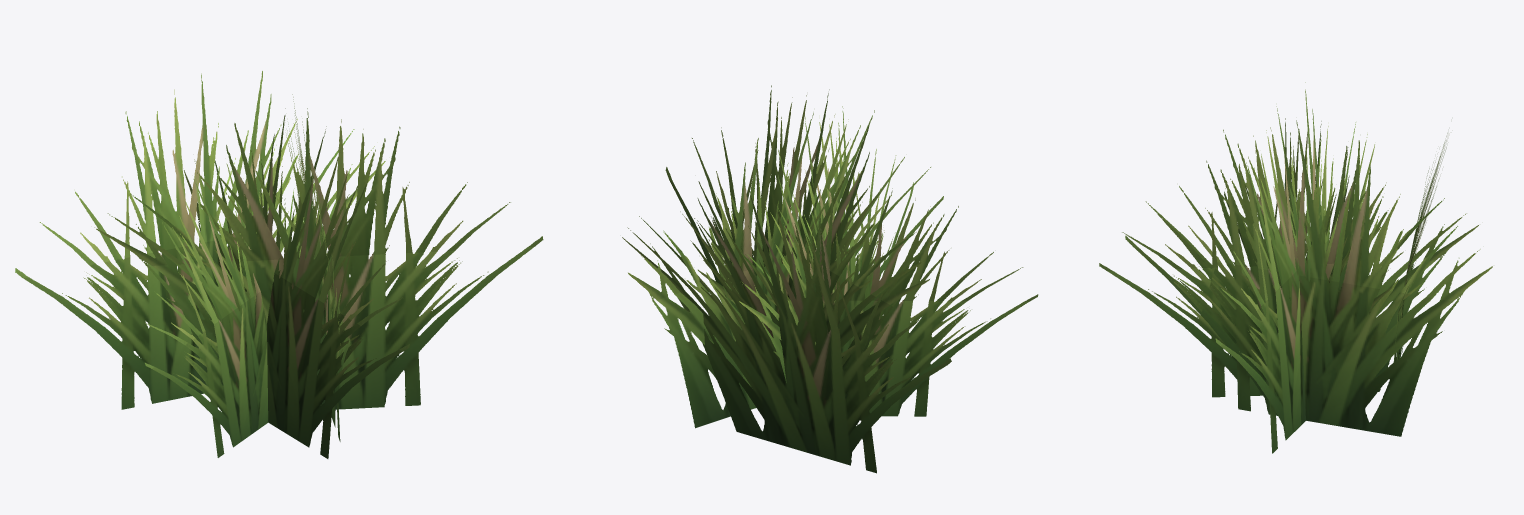
Rendered from grass_a.glb.
3 views of the same model, side by side, from view 1: azimuth 30°, elevation 25°; view 2: azimuth 150°, elevation 25°; view 3: azimuth 270°, elevation 25° (orthographic). The views are drawn at different scales.
Parts seen in each view (by area): view 1: grass_a_mesh; view 2: grass_a_mesh; view 3: grass_a_mesh.
Part boxes in pixels (x1,y1,x2,y2): grass_a_mesh: (15, 71, 543, 458); grass_a_mesh: (622, 85, 1038, 473); grass_a_mesh: (1099, 82, 1492, 453).
Bounding box in the file's own units: 0.6413 × 0.4532 × 0.5619.
Materials: 1 (1 with a texture image).
